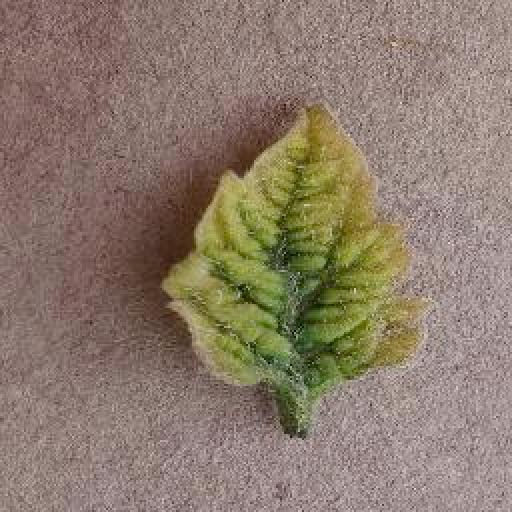disease_tomato: (168, 98, 430, 394)
